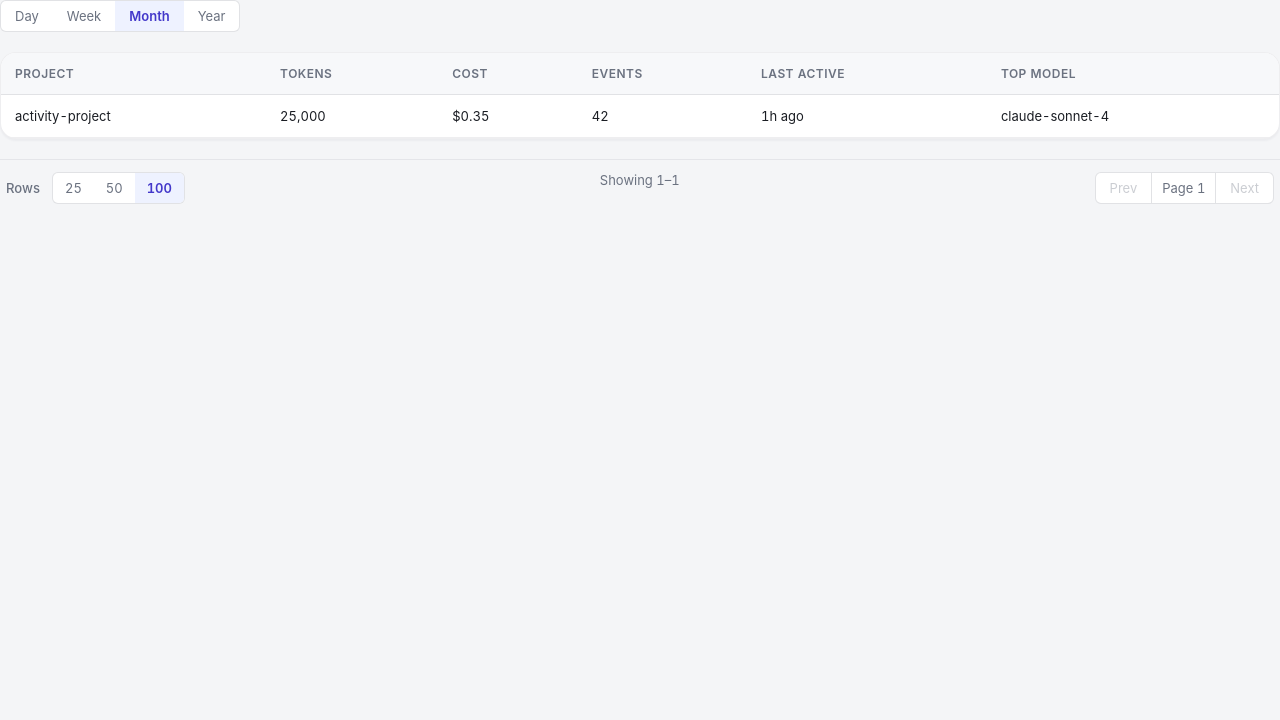
Test: ProjectsPage › displays recent activity in detail drawer
Click the text "activity-project" at coordinates (134, 116), box left=1, top=94, right=266, bottom=138
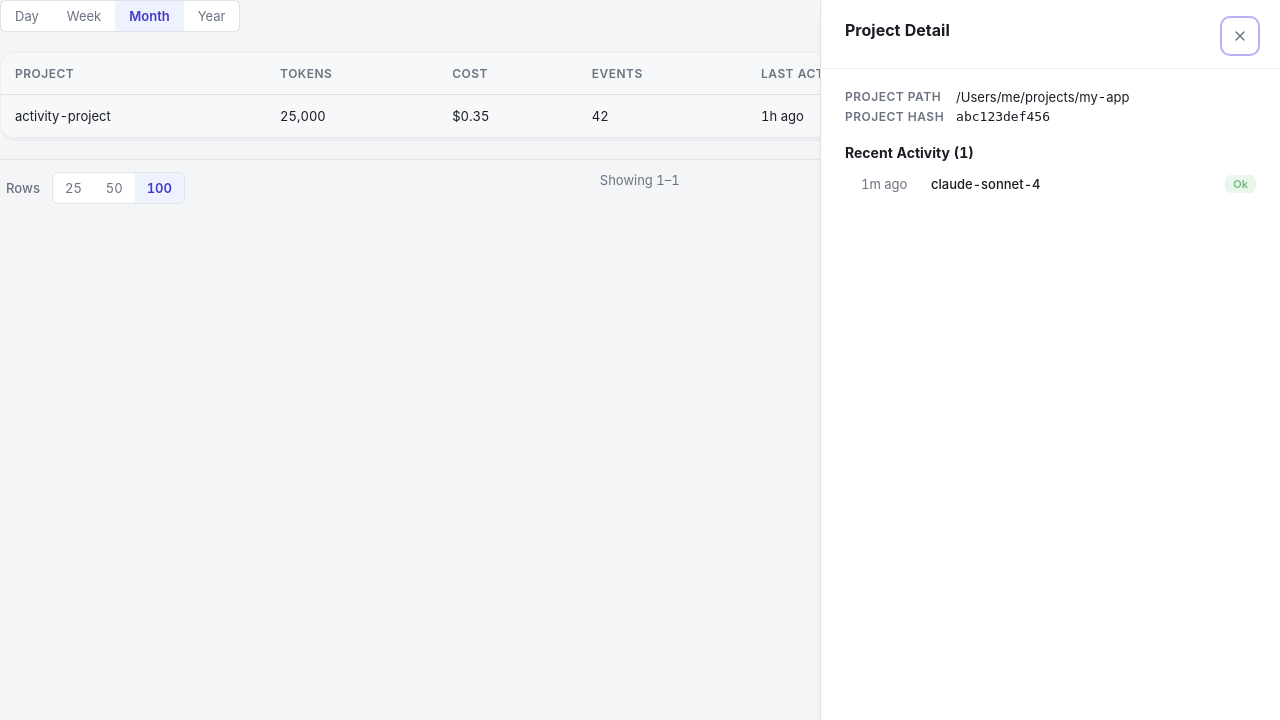
Expected: the heading "Recent Activity (1)" is shown, left=845, top=144, right=974, bottom=161
Expected: the text "ok" is shown, left=1225, top=175, right=1256, bottom=193
